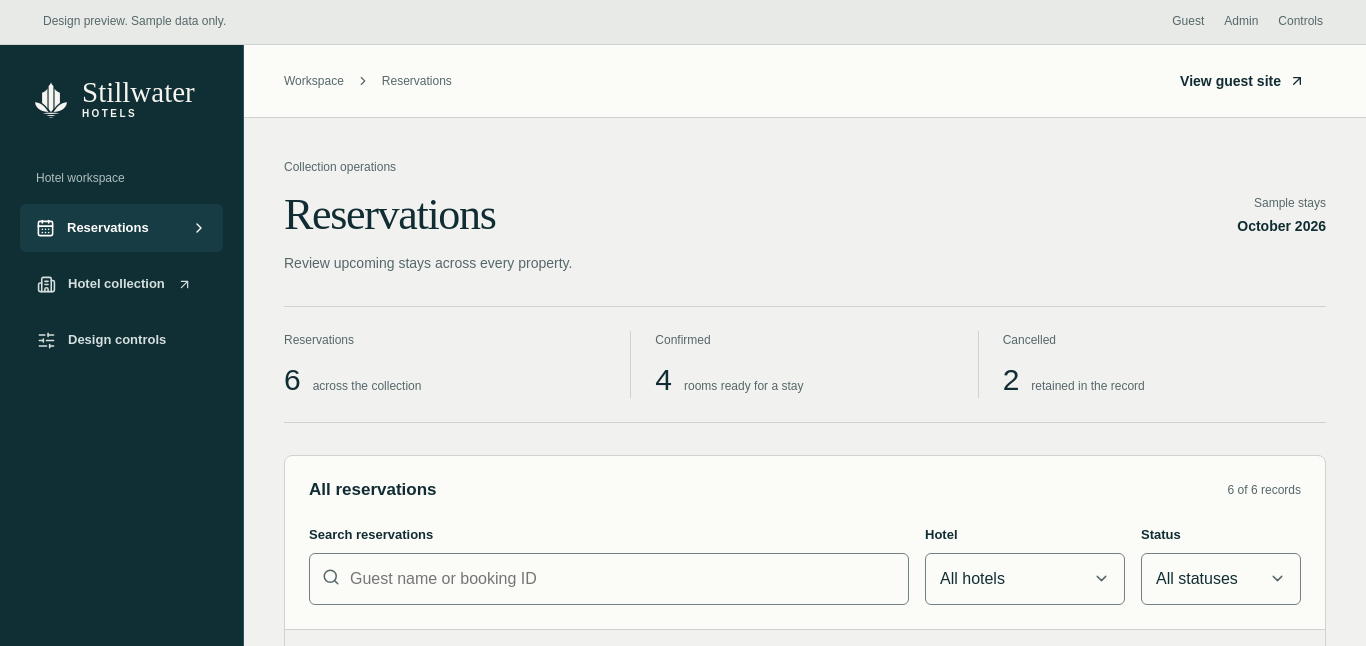
Test: design-system sample search › filters sample reservations and offers a reset for empty results
The width and height of the screenshot is (1366, 646).
Type "No matching name" into the search field labelled "Search reservations".
click(609, 579); type("No matching name")  # box x1=309 y1=553 x2=909 y2=605
(page scrolled)
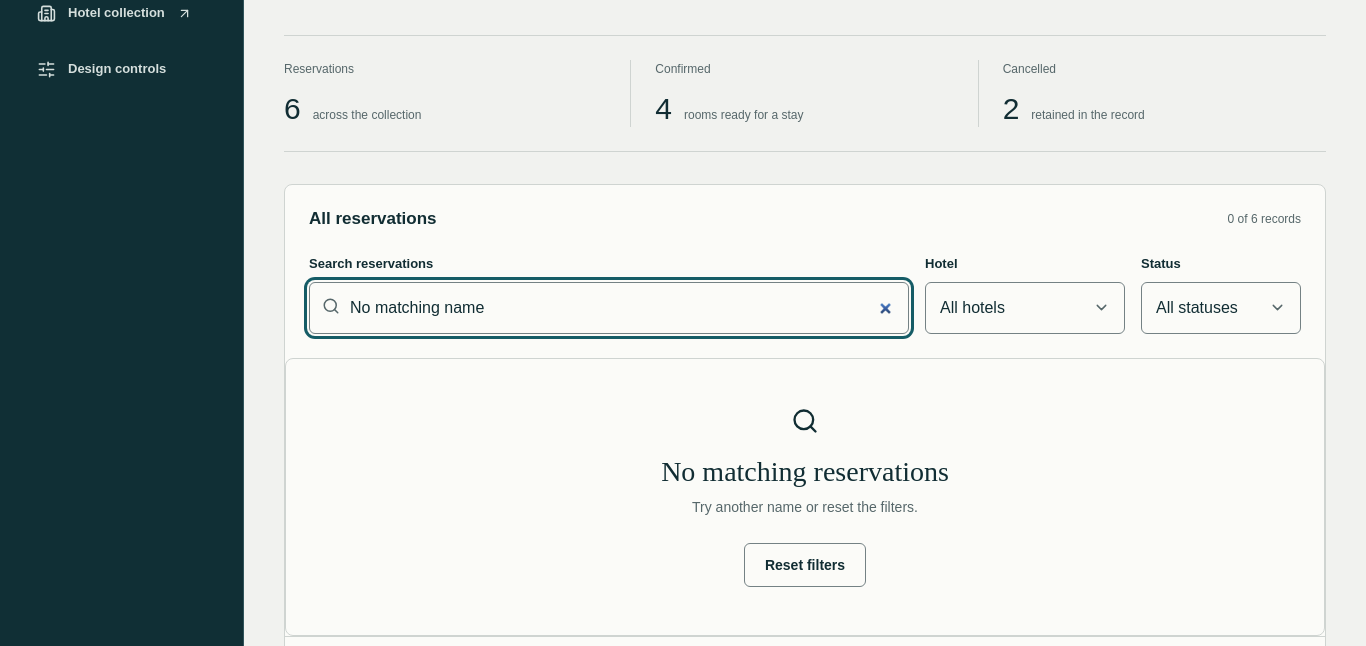
Expected: the heading "No matching reservations" is shown, x1=661 y1=455 x2=949 y2=488
Click the button "Reset filters".
click(805, 565)  # box x1=744 y1=543 x2=866 y2=587
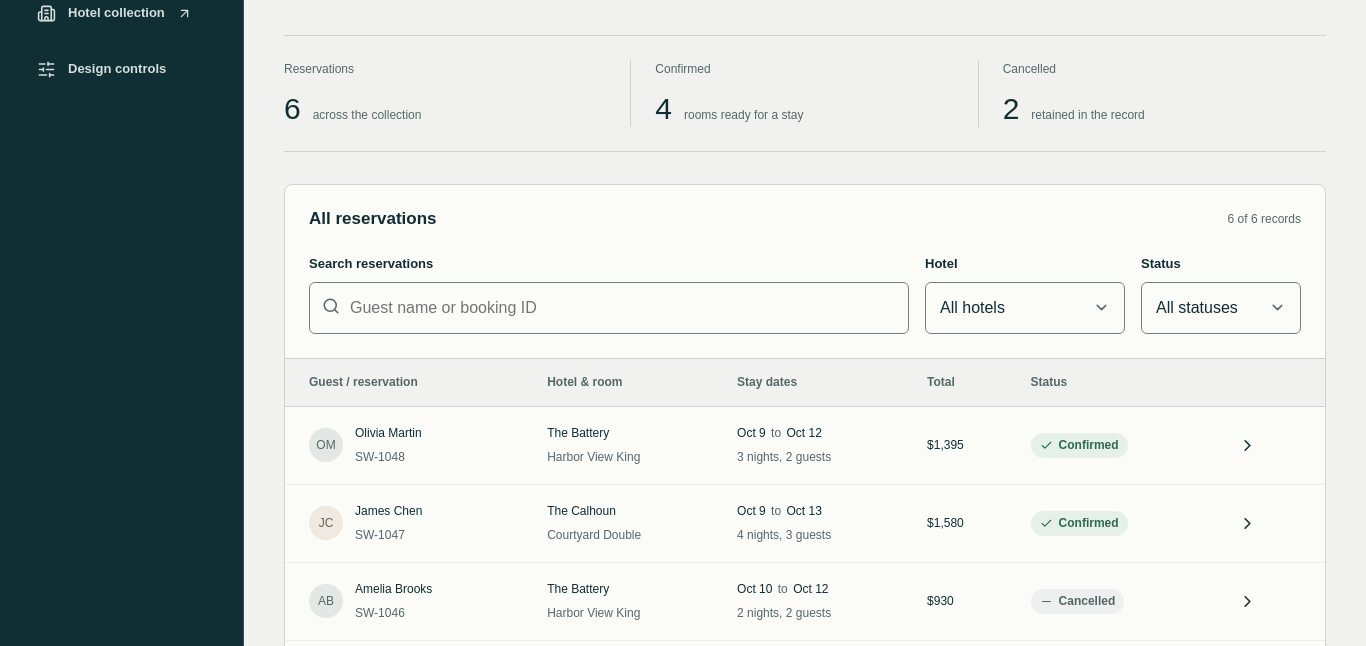
Expected: the column heading "OM Olivia Martin SW-1048" is shown, x1=285 y1=407 x2=531 y2=484
